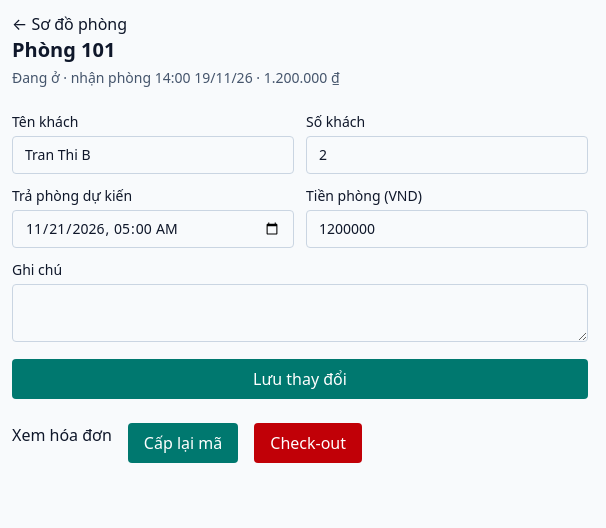
Test: StayDetail › shows the stay and saves edits
The image size is (606, 528).
Check: the heading "Phòng 101" is shown, box 12,36 -> 115,63
Check: the text "Đang ở · nhận phòng 14:00 19/11/26 · 1.200.000 ₫" is shown, box 12,68 -> 340,87
Replace the text in the field labelled "Tiền phòng (VND)" with "2.000.000": [447, 229] box 306,210 -> 588,248
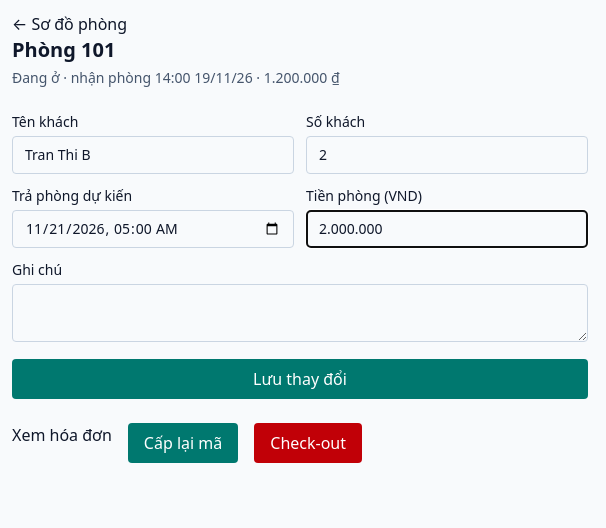
Click the button "Lưu thay đổi": [300, 379] box 12,359 -> 588,399
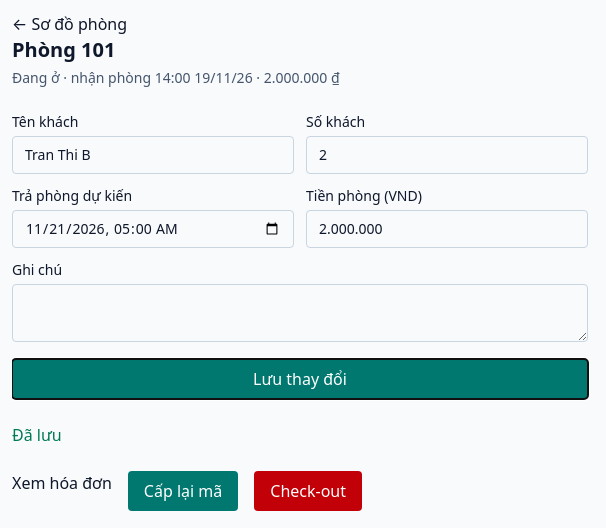
Check: the message reads "Đã lưu", box 12,424 -> 62,446
